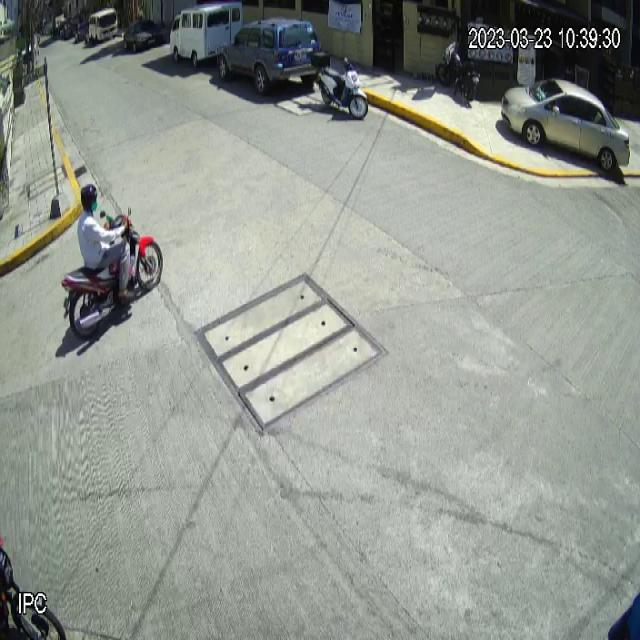Car: (501, 79, 631, 172), (216, 15, 323, 94)
Motorcycle: (61, 205, 164, 340), (312, 51, 368, 120)
Van: (169, 0, 243, 67)
